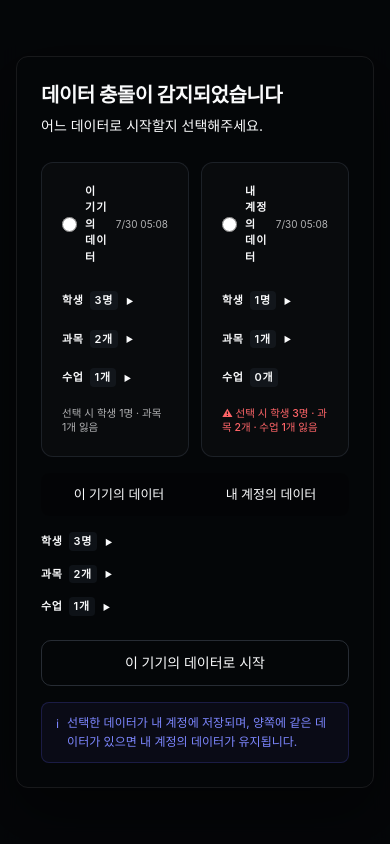
DataConflictModal › SessionSection expand/collapse › 수업 섹션 클릭 시 세션 목록이 펼쳐진다
Note: 수업 섹션의 ▶ 클릭 (학생/과목/수업 순서이므로 마지막)
Click the 8th text "▶": [107, 607] box [103,601,111,613]
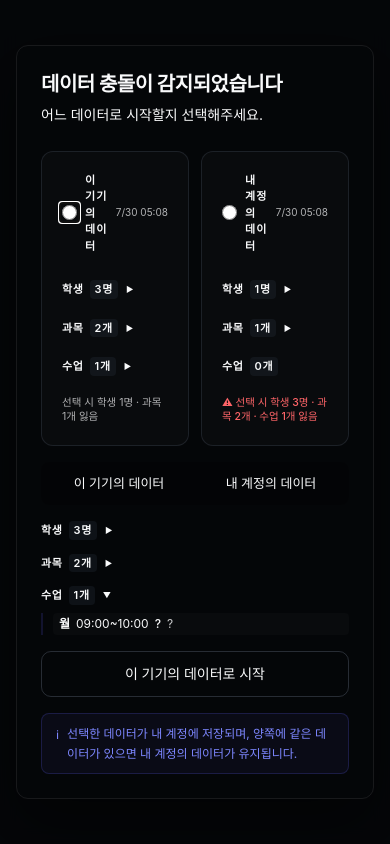
Expected: the text "월" is shown, [59,616,70,632]
Expected: the text "09:00~10:00" is shown, [76,616,149,632]
